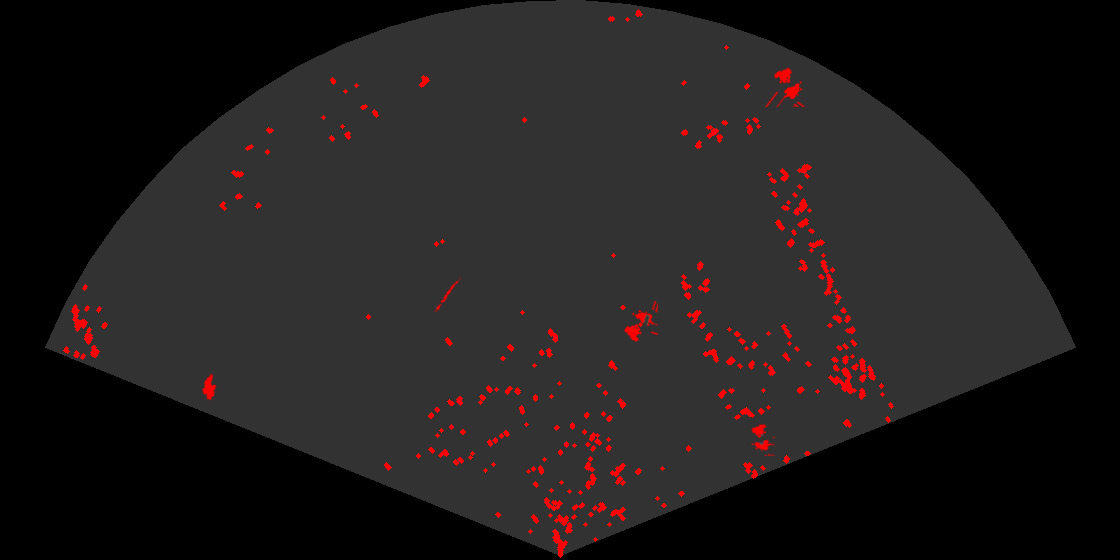AUV: (201, 372, 218, 402)
cage: (763, 66, 807, 107), (623, 301, 658, 343), (750, 422, 775, 456)
chain: (433, 275, 461, 312)
